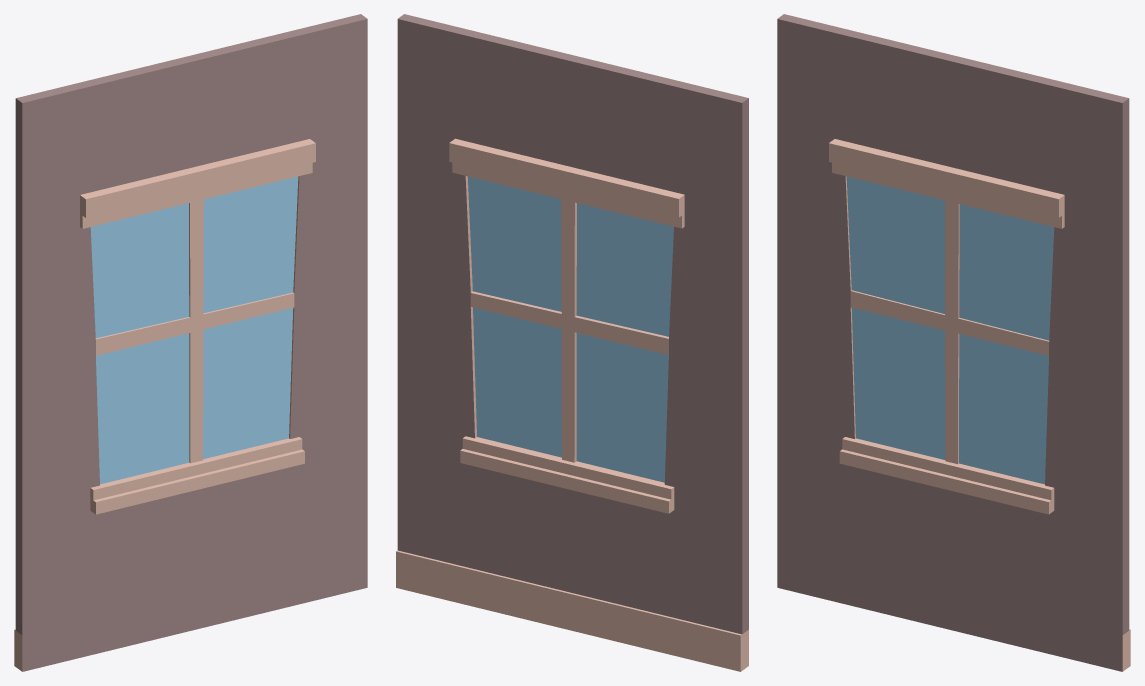
The model's file is SM_Window_1_05.fbx.
The picture shows the model from 3 angles, left to right: view 1: azimuth 30°, elevation 25°; view 2: azimuth 150°, elevation 25°; view 3: azimuth 330°, elevation 25°; orthographic projection.
Visible parts, largest first — view 1: SM_Window_1_05; view 2: SM_Window_1_05; view 3: SM_Window_1_05.
Boxes of the visible parts, x1,y1,x2,y2 form: SM_Window_1_05: (14,14,367,671); SM_Window_1_05: (396,14,748,671); SM_Window_1_05: (777,14,1130,671).
Bounding box in the file's own units: 188 × 295 × 17.46.
